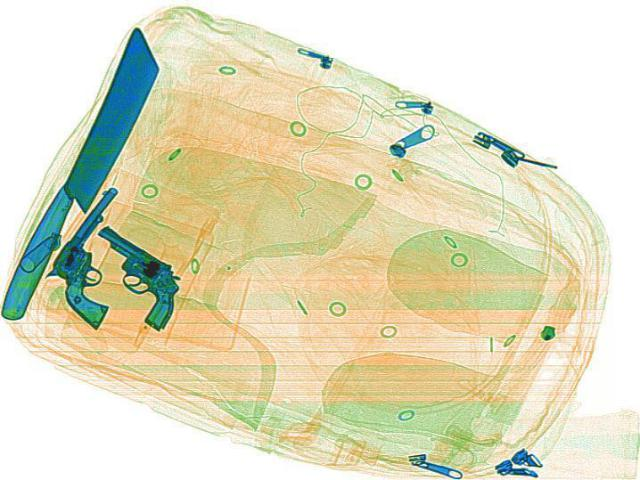Gun: (11, 183, 190, 329), (49, 221, 213, 331)
Knife: (0, 25, 175, 324)
